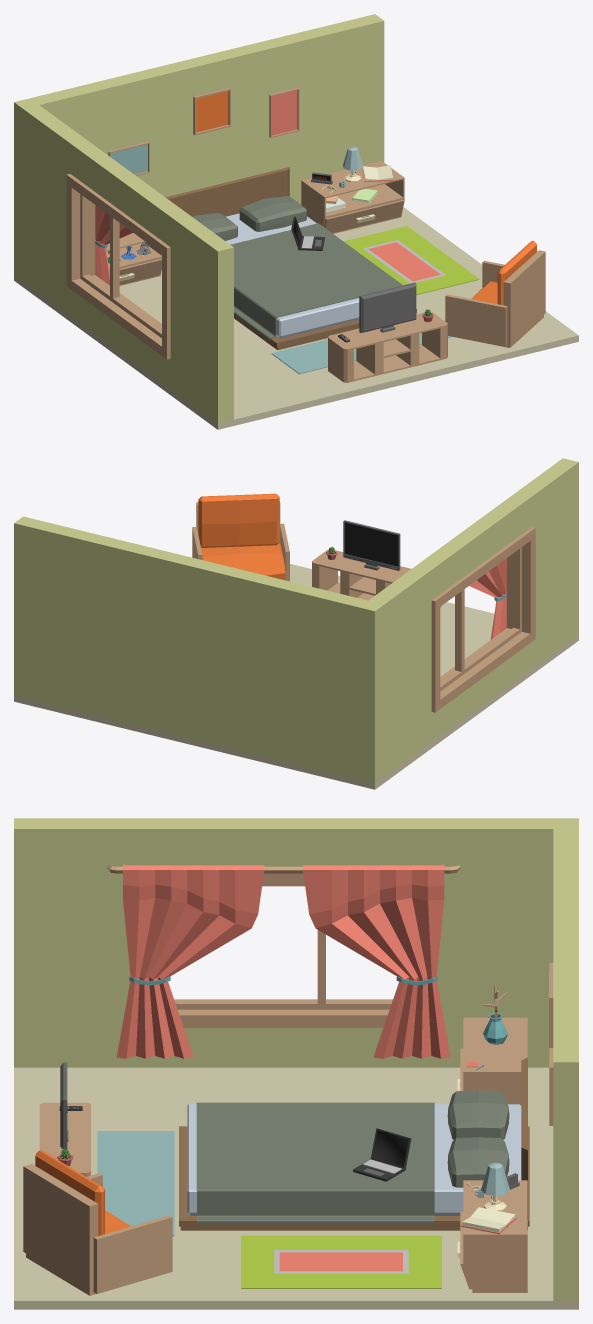
File: Room.gltf
3 views of the same model, one above another, from view 1: azimuth 30°, elevation 25°; view 2: azimuth 150°, elevation 25°; view 3: azimuth 270°, elevation 25° (orthographic). The views are drawn at different scales.
Visible parts, largest first — view 1: LowPolyRoom; view 2: LowPolyRoom; view 3: LowPolyRoom.
Part boxes in pixels (x1=…): LowPolyRoom: x1=14, y1=14, x2=578, y2=429; LowPolyRoom: x1=14, y1=458, x2=578, y2=789; LowPolyRoom: x1=14, y1=818, x2=578, y2=1309.
Bounding box in the file's own units: 9.09 × 4.25 × 8.8.
1 material, 1 textured.
